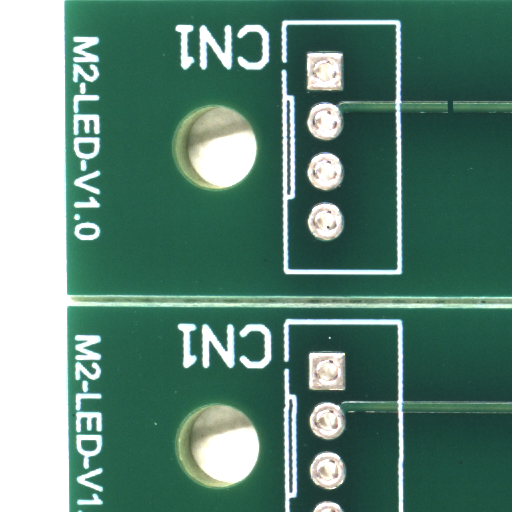Open_circuit: (450, 105, 457, 121)
